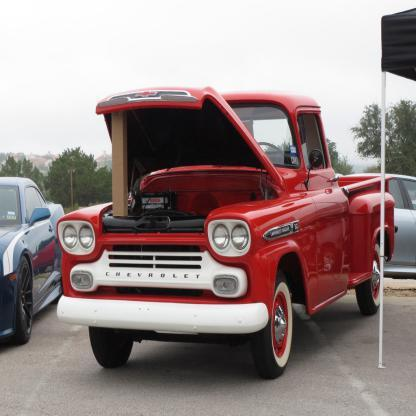truck: (61, 83, 411, 397)
